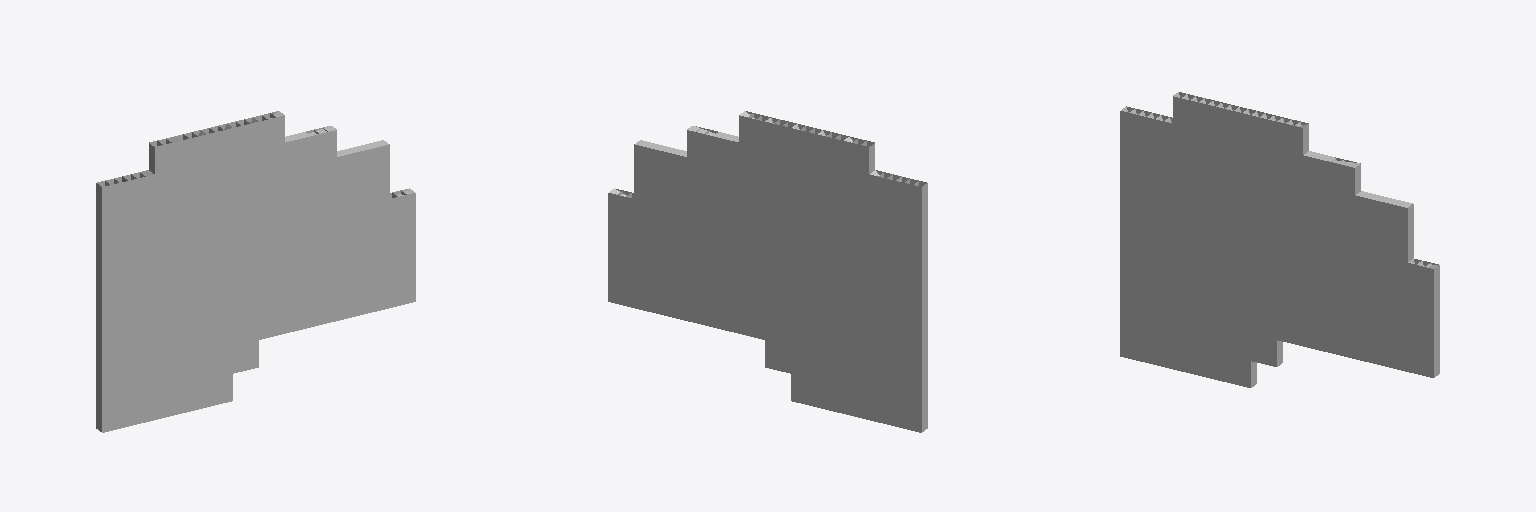
Rendered from 3d_Crtater Lake.wlw.obj.
3 views of the same model, side by side, from view 1: azimuth 30°, elevation 25°; view 2: azimuth 150°, elevation 25°; view 3: azimuth 330°, elevation 25° (orthographic).
Size of the model in its own units: 300 by 250 by 10.